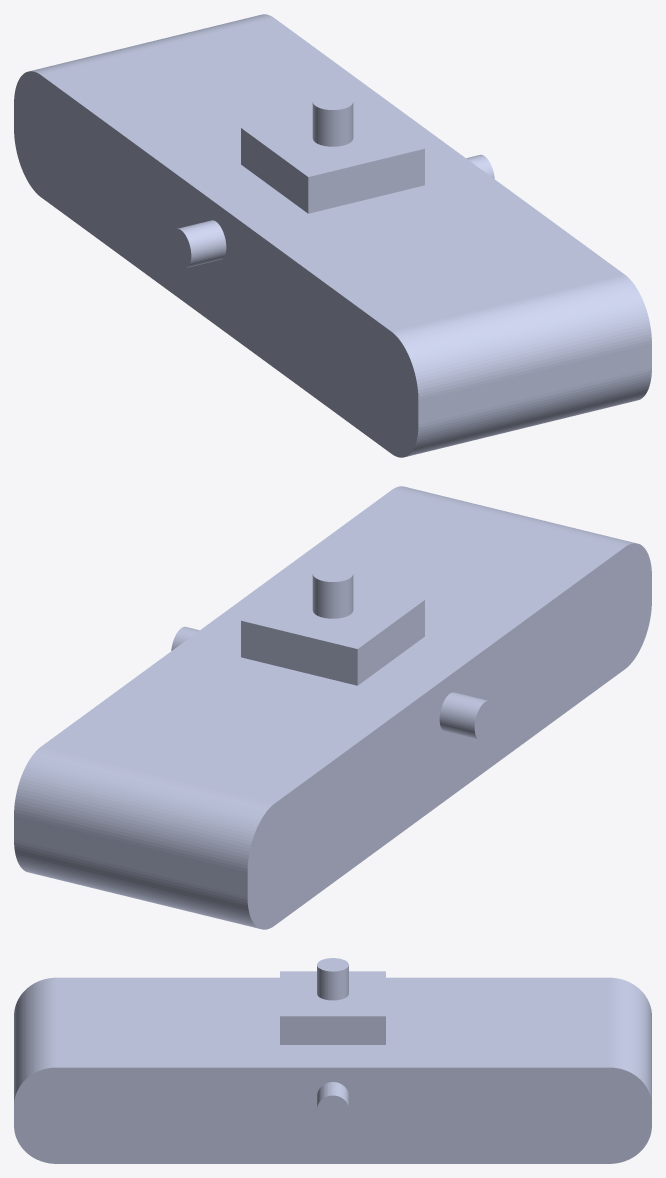
Rendered from ChasisV1.5.dae.
The picture shows the model from 3 angles, top to bottom: view 1: azimuth 30°, elevation 25°; view 2: azimuth 150°, elevation 25°; view 3: azimuth 270°, elevation 25°; orthographic projection. The views are drawn at different scales.
Visible parts, largest first — view 1: ID2; view 2: ID2; view 3: ID2.
Part boxes in pixels (x1,y1,x2,y2): ID2: (14,14,651,457); ID2: (14,486,651,929); ID2: (14,958,651,1163).
Bounding box in the file's own units: 0.26 × 0.6 × 0.16.
